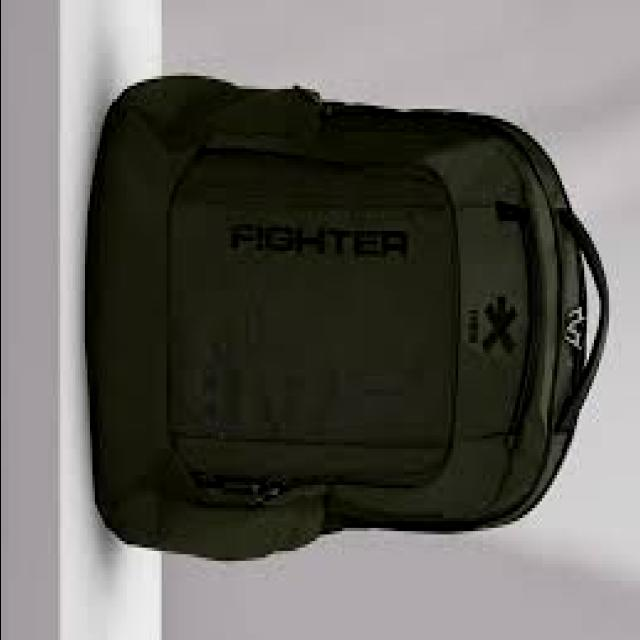backpack: (88, 74, 612, 562)
